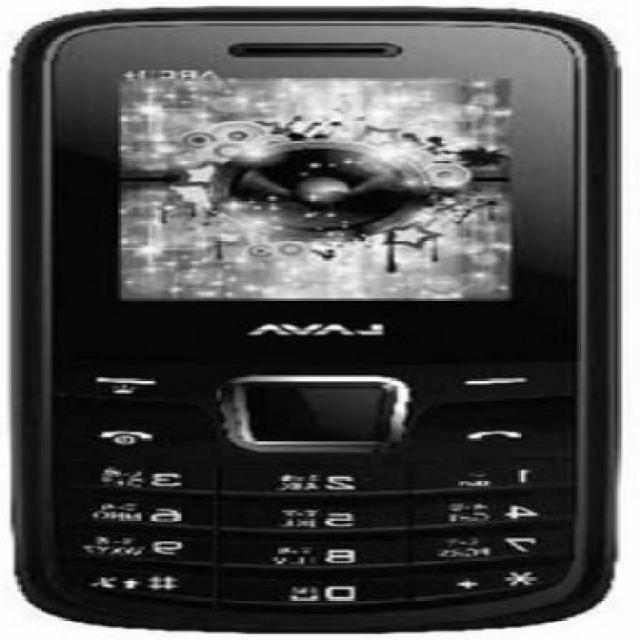fake: (4, 8, 626, 638)
